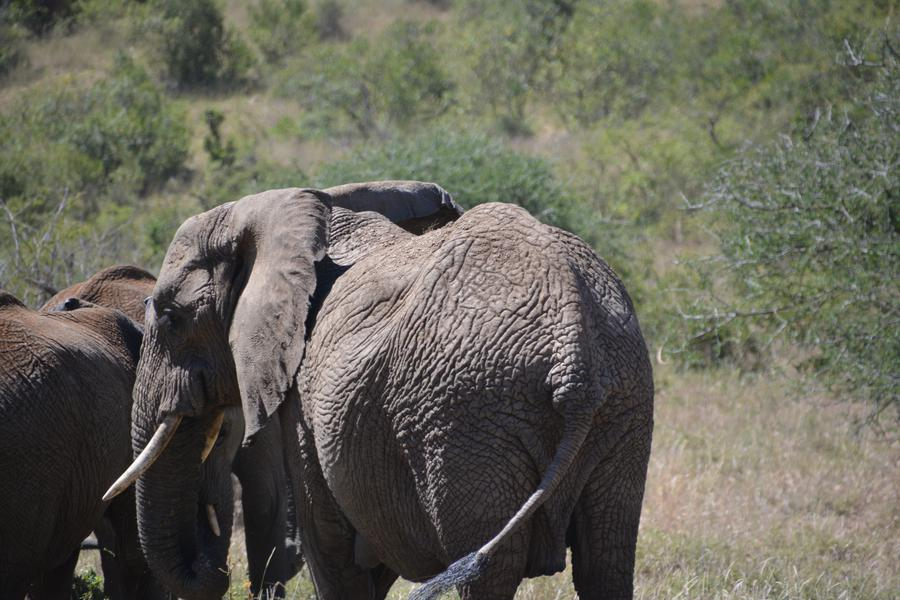elephant: (143, 188, 631, 556)
